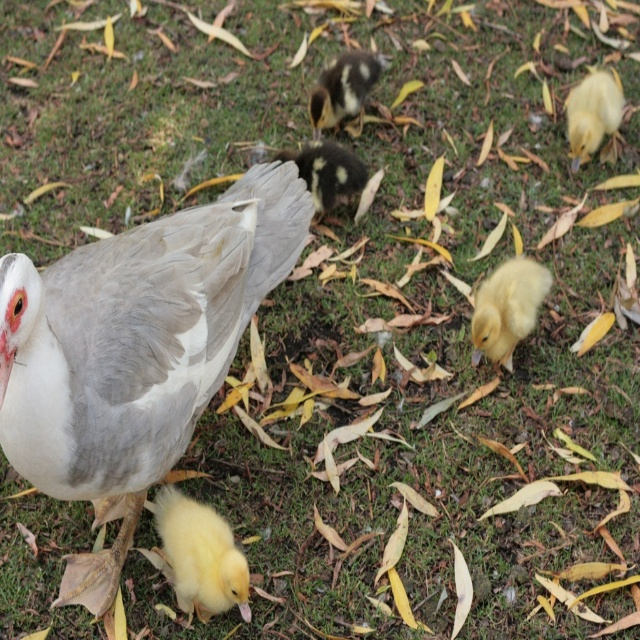Chicken: (478, 253, 563, 384)
